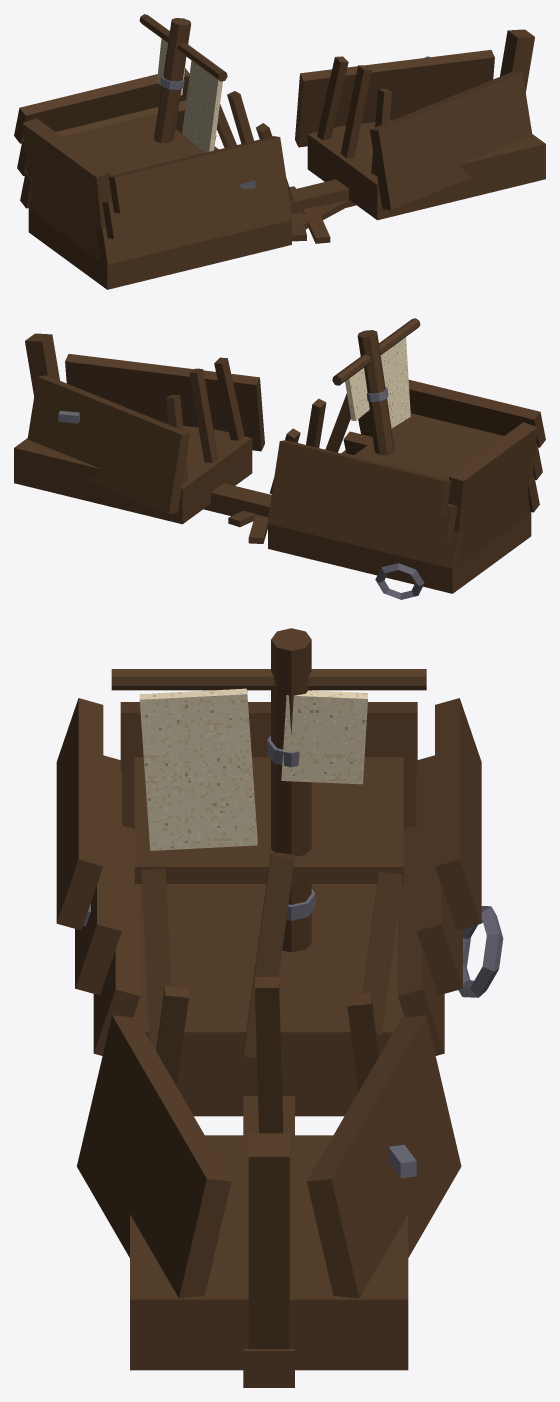
Rendered from shipwreck_hull.glb.
3 views of the same model, one above another, from view 1: azimuth 30°, elevation 25°; view 2: azimuth 150°, elevation 25°; view 3: azimuth 270°, elevation 25° (orthographic). The views are drawn at different scales.
Visible parts, largest first — view 1: bow_side_1, bow_bottom, bow_side_0, stern_transom, stern_side_1_2, stern_bottom, stern_side_1_0, stern_side_0_2, stern_side_1_1, stern_deck, torn_sail_a, mast_stump (+11 smaller); view 2: bow_side_0, bow_bottom, bow_side_1, stern_transom, stern_side_0_2, stern_bottom, stern_side_0_0, stern_side_0_1, stern_deck, stern_side_1_2, mast_stump, torn_sail_a (+13 smaller); view 3: stern_bottom, bow_bottom, bow_side_1, bow_side_0, stern_deck, torn_sail_a, stern_side_1_2, stern_side_0_2, bow_stem, mast_stump, stern_transom, torn_sail_b (+13 smaller).
Boxes of the visible parts, box(x1,y1,x2,y2) form: bow_side_1: box(369, 71, 532, 209); bow_bottom: box(307, 119, 545, 220); bow_side_0: box(295, 50, 494, 147); stern_transom: box(22, 118, 111, 264); stern_side_1_2: box(108, 136, 285, 213); stern_bottom: box(28, 146, 291, 289); stern_side_1_0: box(96, 196, 292, 264); stern_side_0_2: box(14, 68, 189, 143); stern_side_1_1: box(102, 173, 288, 238); stern_deck: box(62, 114, 204, 175); torn_sail_a: box(182, 60, 222, 152); mast_stump: box(154, 18, 190, 142); bow_side_0: box(27, 375, 190, 513); bow_bottom: box(14, 423, 252, 524); bow_side_1: box(65, 354, 264, 451); stern_transom: box(448, 422, 537, 568); stern_side_0_2: box(274, 440, 451, 517); stern_bottom: box(268, 450, 531, 593); stern_side_0_0: box(267, 500, 463, 568); stern_side_0_1: box(271, 477, 457, 542); stern_deck: box(353, 418, 497, 479); stern_side_1_2: box(408, 379, 545, 447); mast_stump: box(357, 330, 394, 455); torn_sail_a: box(380, 337, 410, 427); stern_bottom: box(133, 884, 404, 1116); bow_bottom: box(130, 1135, 408, 1370); bow_side_1: box(77, 1015, 231, 1298); bow_side_0: box(306, 1015, 461, 1298); stern_deck: box(134, 757, 403, 883); torn_sail_a: box(139, 688, 257, 850); stern_side_1_2: box(56, 698, 103, 930); stern_side_0_2: box(435, 698, 481, 930); bow_stem: box(248, 1133, 289, 1348); mast_stump: box(271, 628, 311, 952); stern_transom: box(120, 702, 417, 828); torn_sail_b: box(281, 690, 367, 784).
Size of what is drawn, in the model's own units: 5.86 by 2.59 by 2.41.
3 materials, 1 textured.
